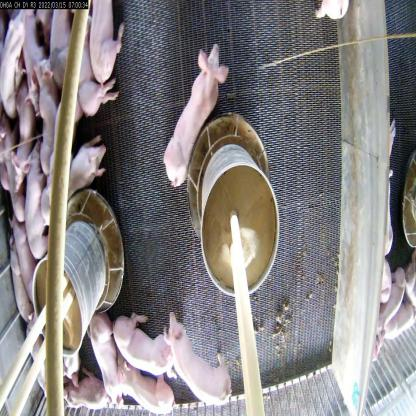Pig: (151, 48, 230, 183), (166, 313, 236, 412), (88, 333, 167, 410), (18, 140, 62, 264), (77, 3, 134, 98), (26, 61, 74, 164), (112, 313, 181, 375), (0, 0, 34, 100), (52, 360, 108, 416), (6, 213, 39, 297), (58, 154, 108, 206)
